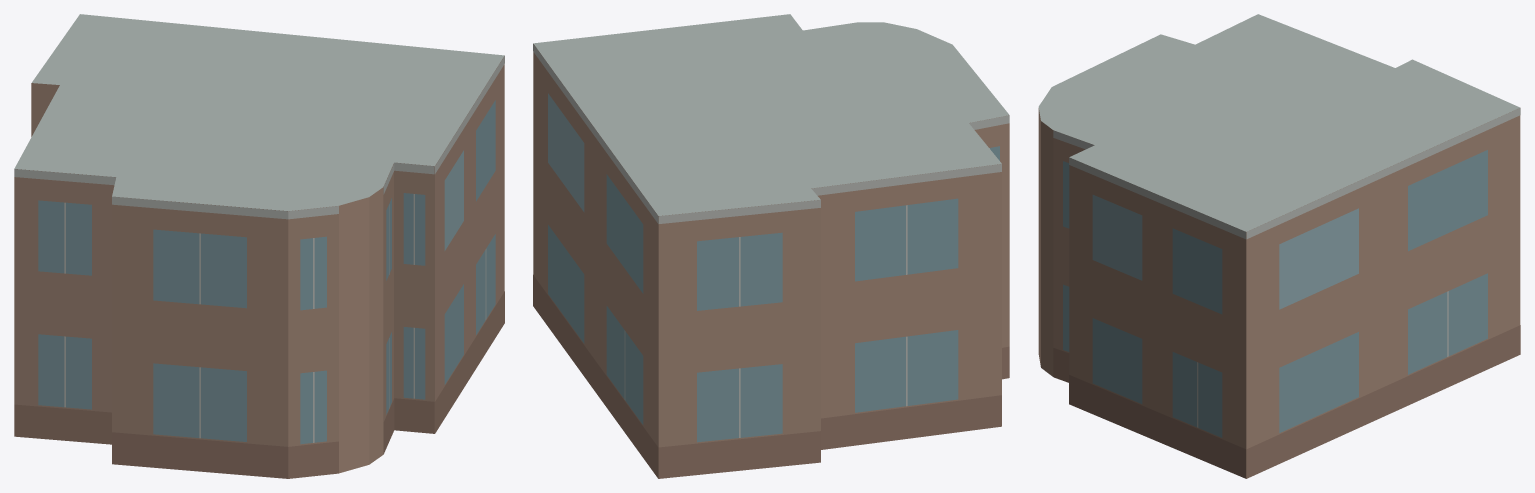
File: survey-upis-32867238.glb
The picture shows the model from 3 angles, left to right: view 1: azimuth 30°, elevation 25°; view 2: azimuth 150°, elevation 25°; view 3: azimuth 270°, elevation 25°; orthographic projection. The views are drawn at different scales.
Parts seen in each view (by area): view 1: survey-upis-32867238.tmp; view 2: survey-upis-32867238.tmp; view 3: survey-upis-32867238.tmp.
Part boxes in pixels (<box>): survey-upis-32867238.tmp: <box>14,14,504,478</box>; survey-upis-32867238.tmp: <box>533,14,1009,478</box>; survey-upis-32867238.tmp: <box>1038,14,1520,478</box>.
Bounding box in the file's own units: 15.05 × 7.95 × 14.07.
